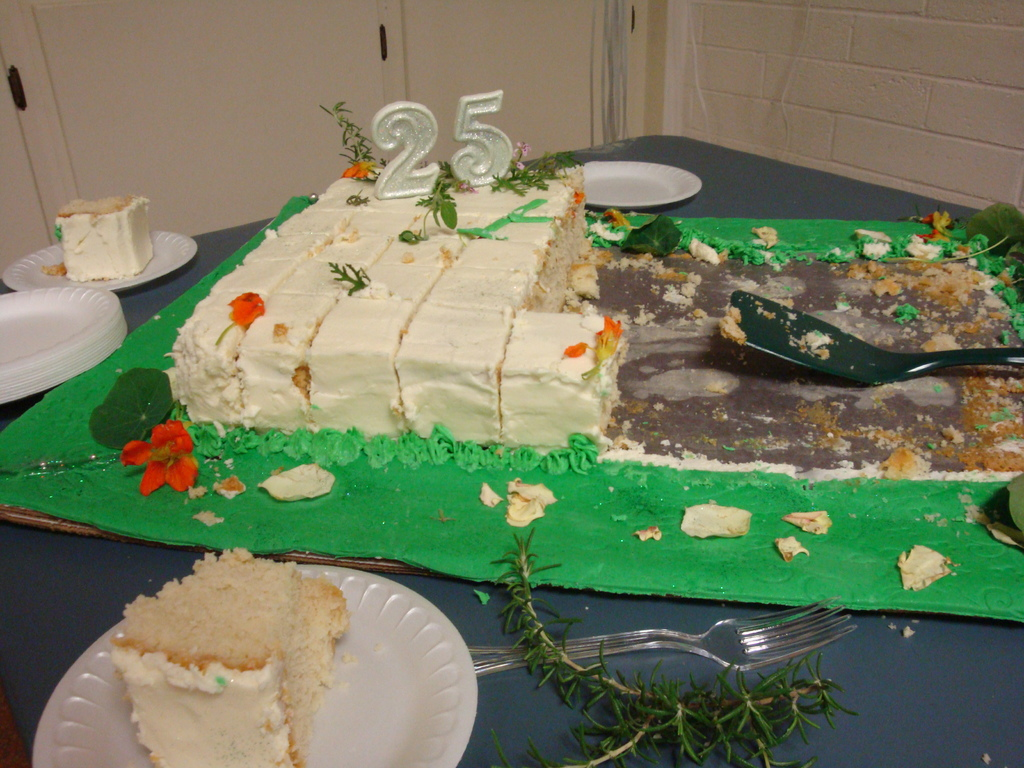cake: (165, 164, 625, 459), (109, 545, 350, 767), (54, 197, 149, 278)
